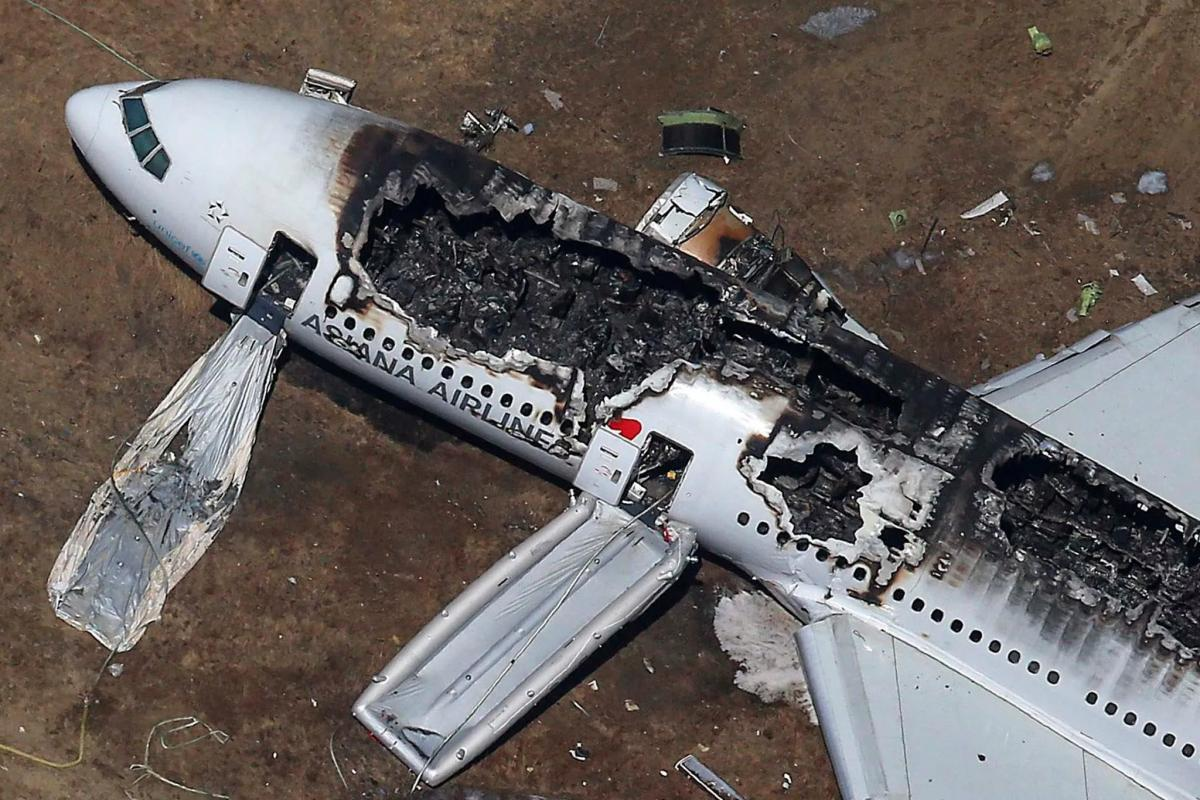Fuselage_damage: (327, 116, 1199, 687), (764, 582, 845, 628), (1037, 345, 1077, 371), (983, 385, 1003, 399)
